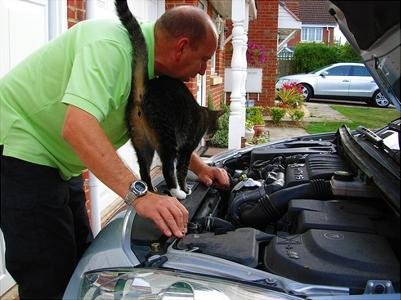person: (2, 6, 230, 300)
